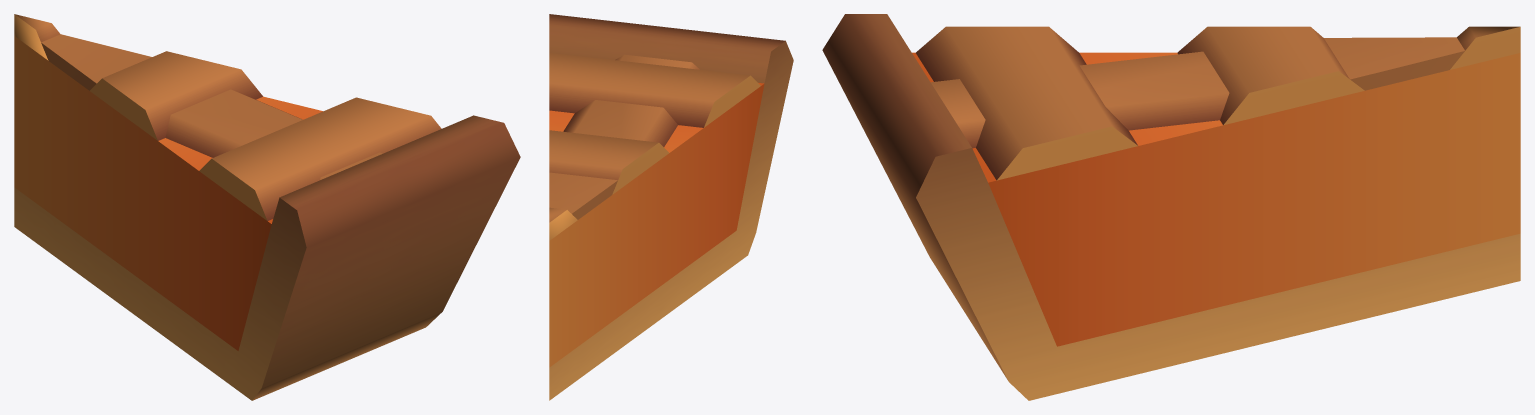
Rendered from m_AmericanPie04_Slice02.fbx.
3 views of the same model, side by side, from view 1: azimuth 30°, elevation 25°; view 2: azimuth 150°, elevation 25°; view 3: azimuth 270°, elevation 25° (orthographic). The views are drawn at different scales.
Parts seen in each view (by area): view 1: m_AmericanPie04_Slice02; view 2: m_AmericanPie04_Slice02; view 3: m_AmericanPie04_Slice02.
Boxes of the visible parts, x1=… form: m_AmericanPie04_Slice02: x1=14, y1=14, x2=520, y2=400; m_AmericanPie04_Slice02: x1=549, y1=14, x2=793, y2=400; m_AmericanPie04_Slice02: x1=822, y1=14, x2=1520, y2=400.
Size of the model in its own units: 7 by 5.91 by 14.
